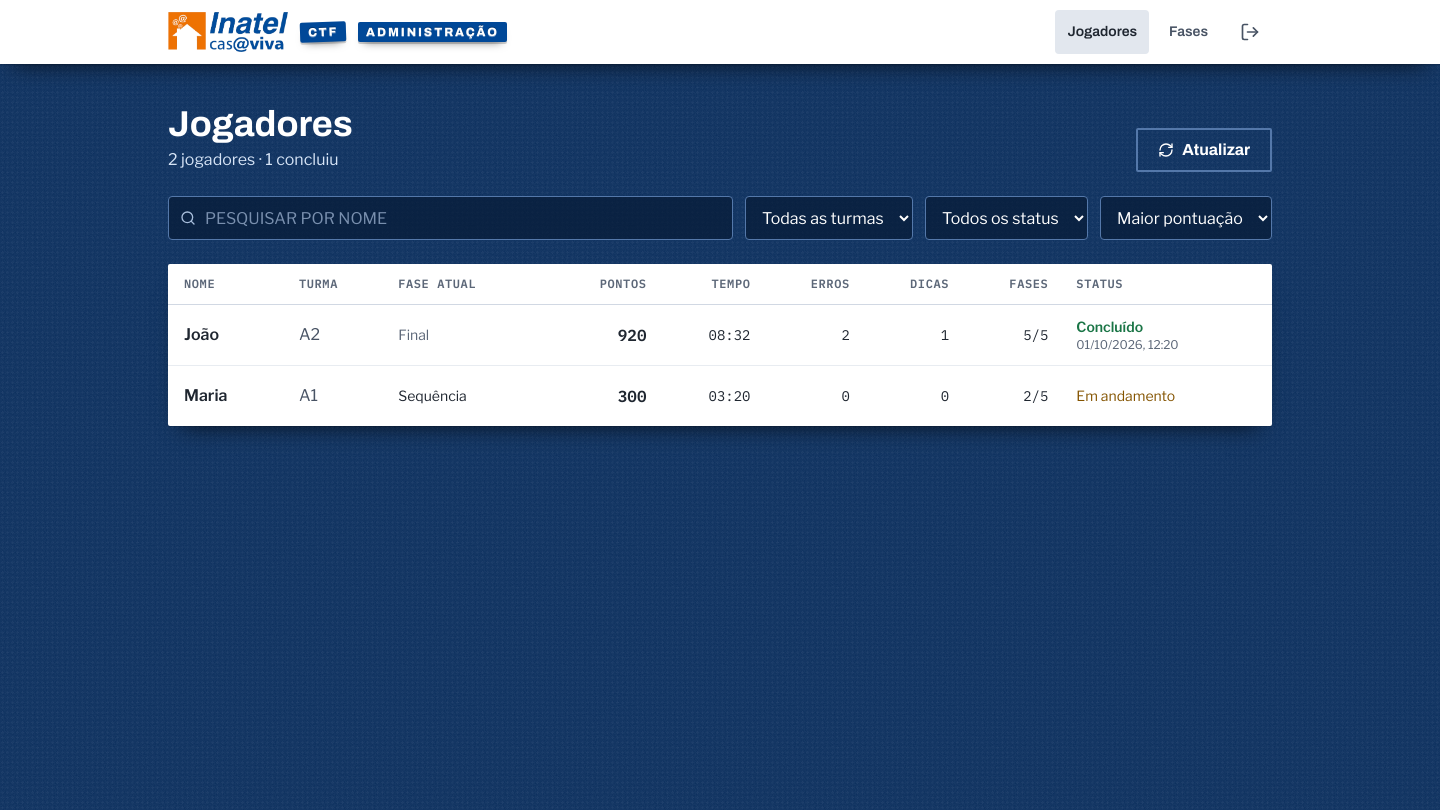
admin area › shows a player history and edits name and class
Click the button "João" at [227, 335], box [184,313,271,357]
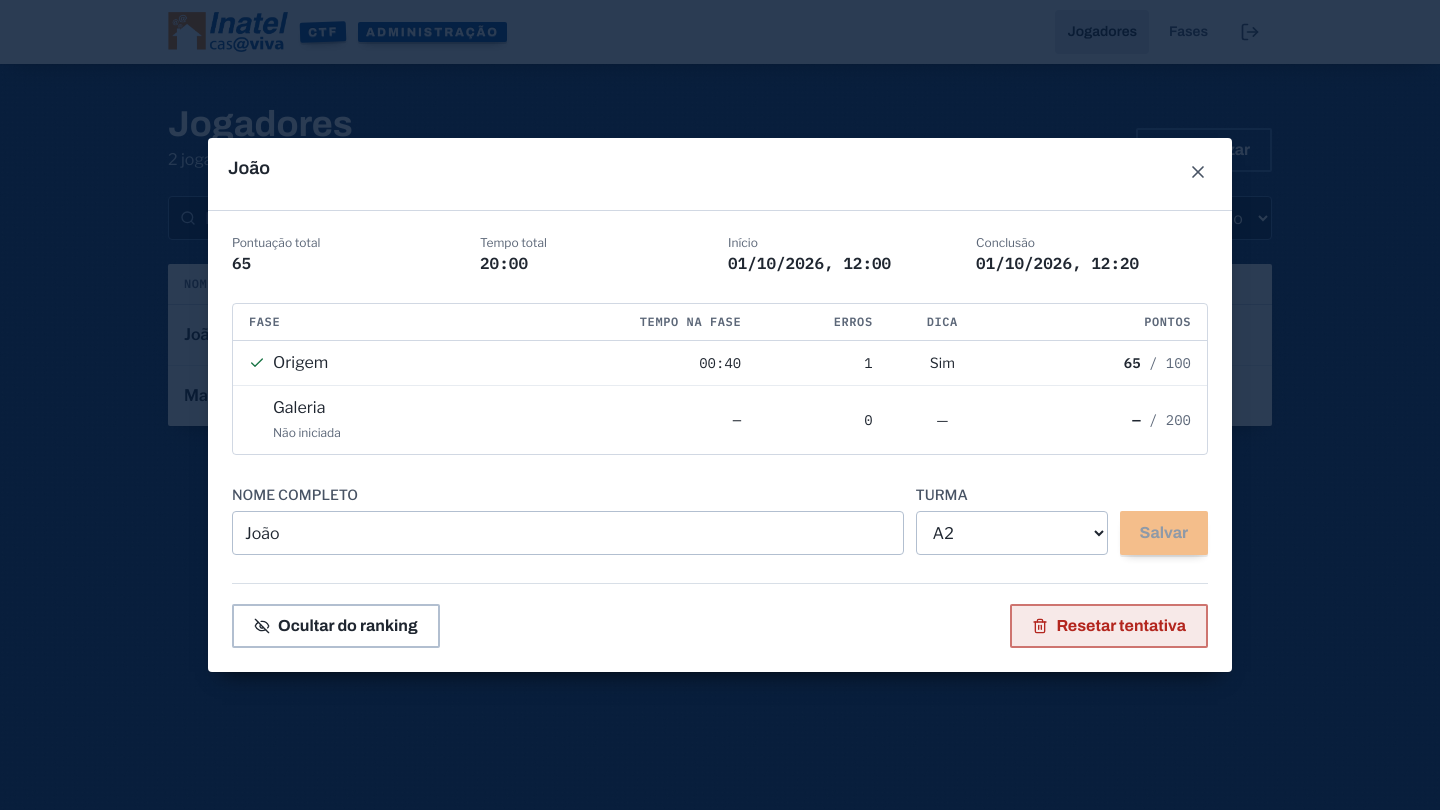
Check: the text "Origem" is shown, box [249,353,328,372]
Check: the text "20:00" is shown, box [480,253,528,273]
Check: the text "00:40" is shown, box [492,341,753,386]
Replace the text in the field labelled "NOME COMPLETO" with " João  silva " at [568, 533], box [232,511,904,555]
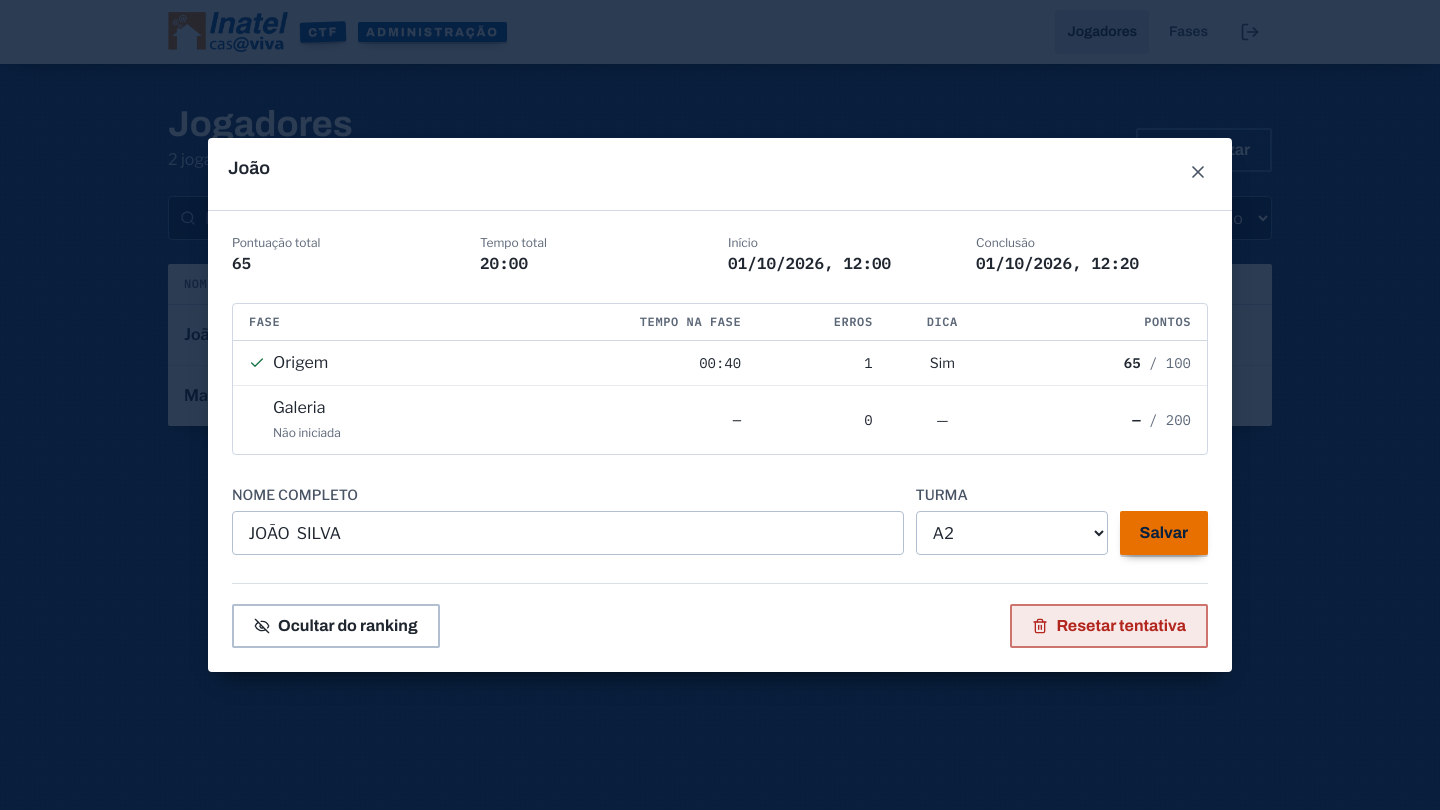
Select "B4" in the dropdown labelled "TURMA" at [1012, 533], box [916,511,1108,555]
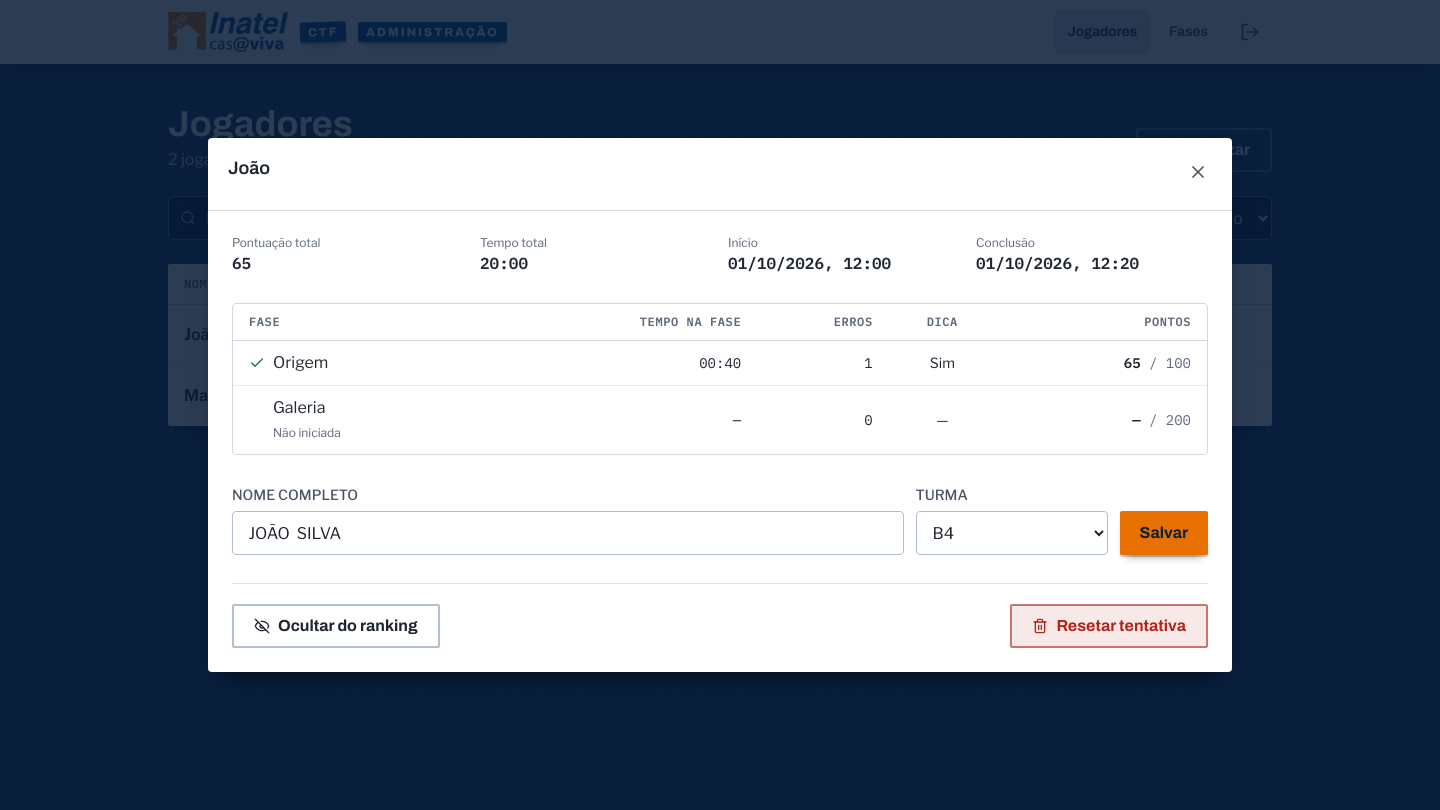
Click the button "Salvar" at [1164, 533], box [1120,511,1208,555]
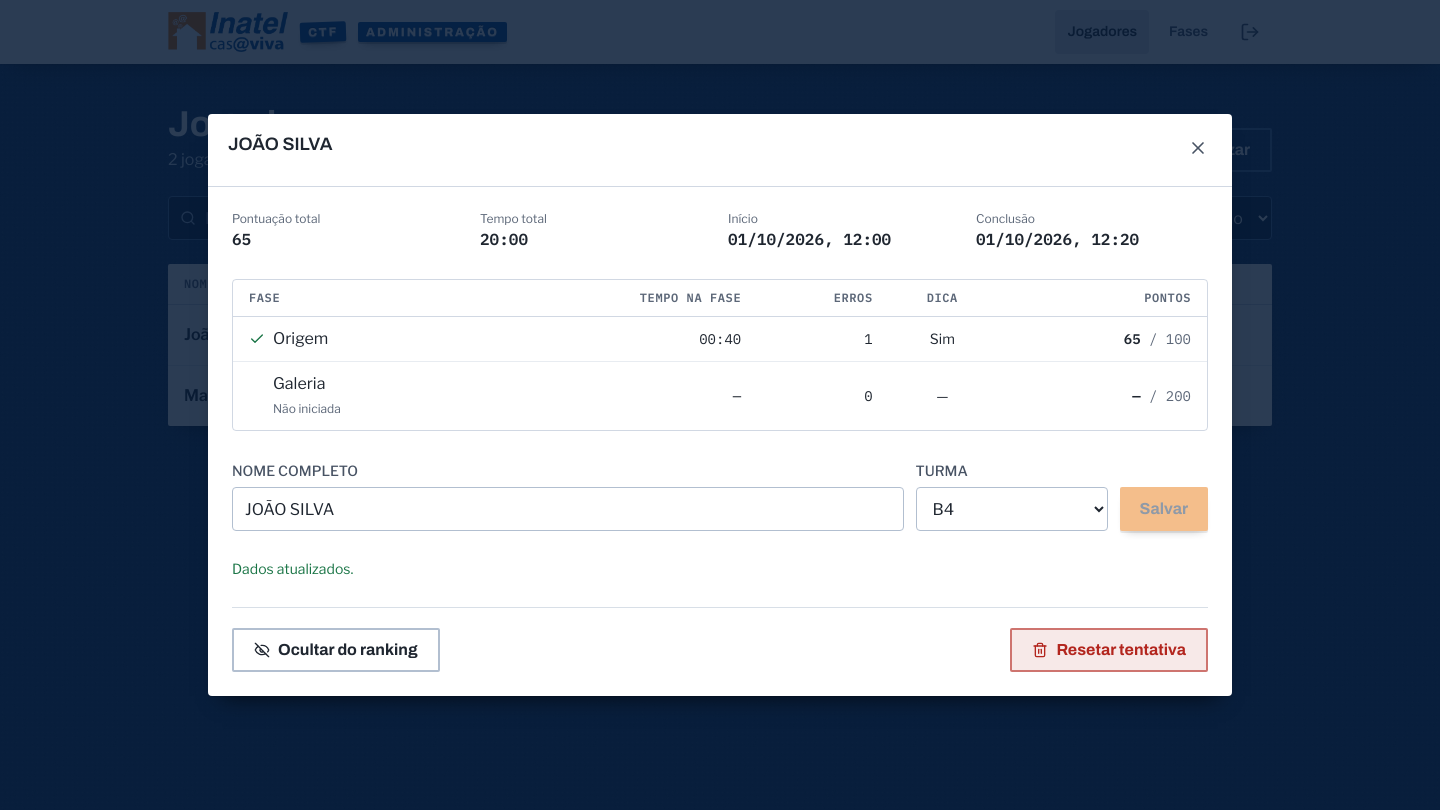
Check: the text "Dados atualizados." is shown, box [232,560,353,577]
